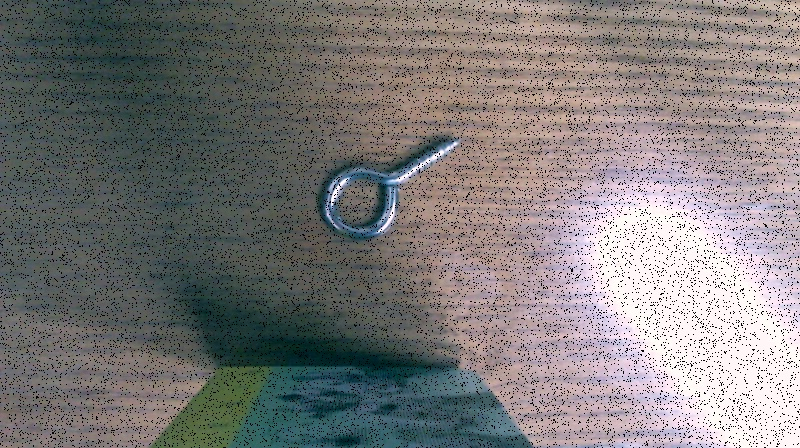O001: (316, 133, 463, 241)
